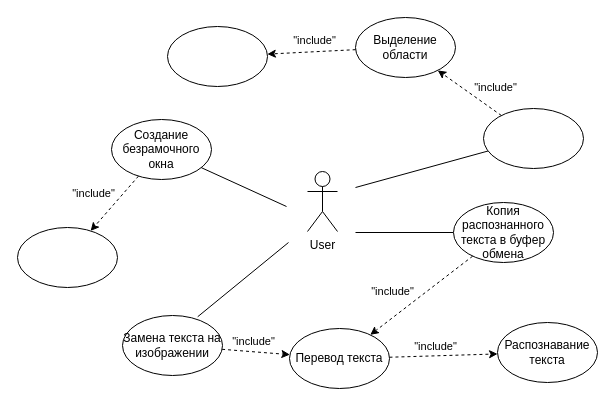
Some shapes in this 615 by 406 pixel diagram are drawn without their labels. Here are the shapes that lost their labels. From the top down, the centre of each, then its label:
At point 217,56: "Активация выделения".
At point 533,138: "Отмена выделения".
At point 67,257: "Скриншот экрана".
